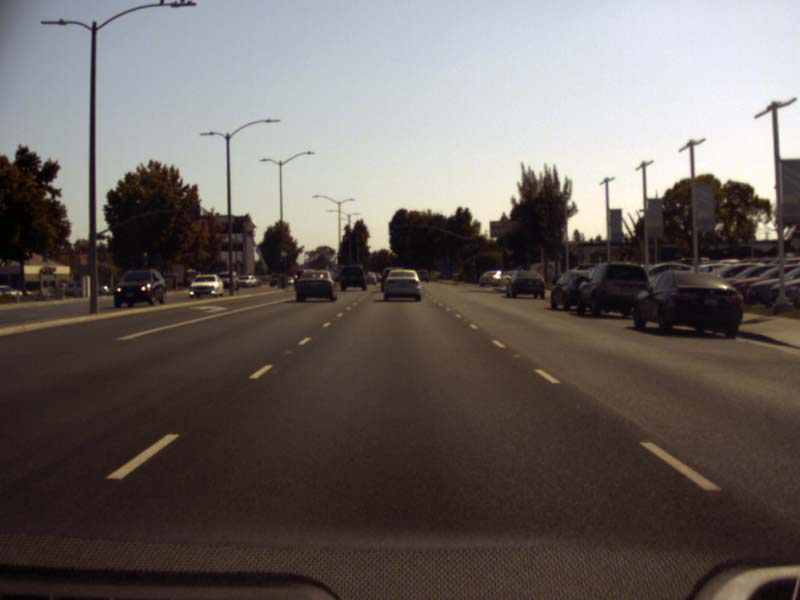Green: (498, 237, 503, 250), (472, 249, 476, 259)
Red: (338, 252, 342, 262), (279, 258, 283, 264)
